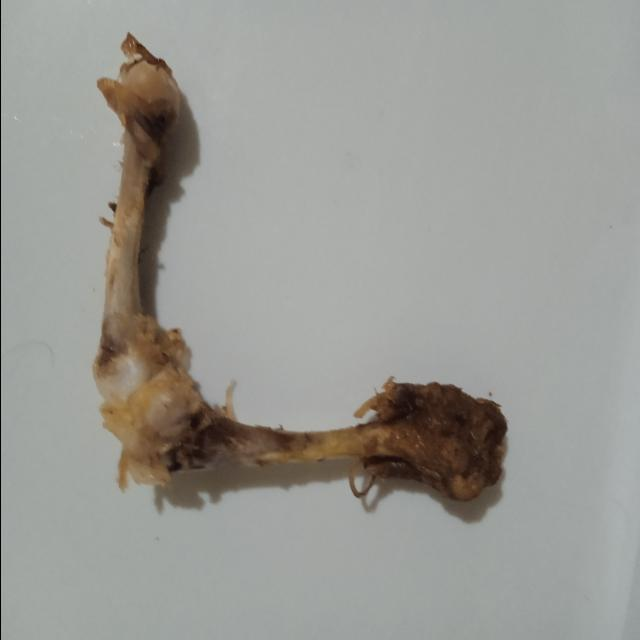bone: (84, 24, 524, 534)
